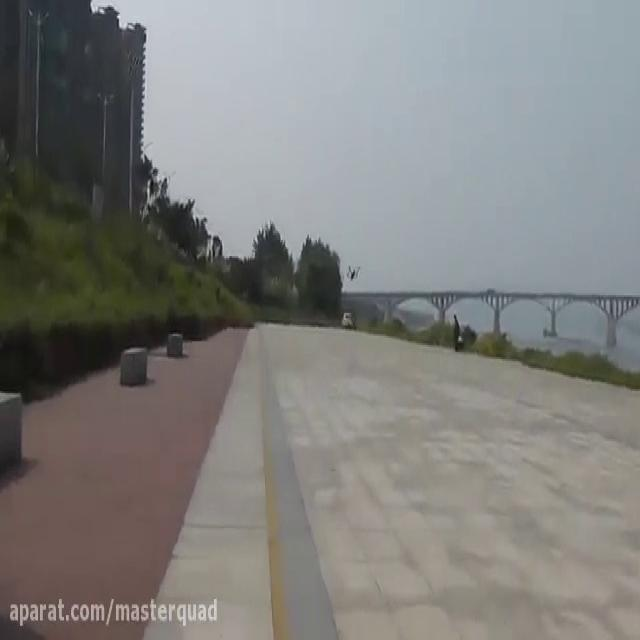drone: (344, 258, 361, 282)
